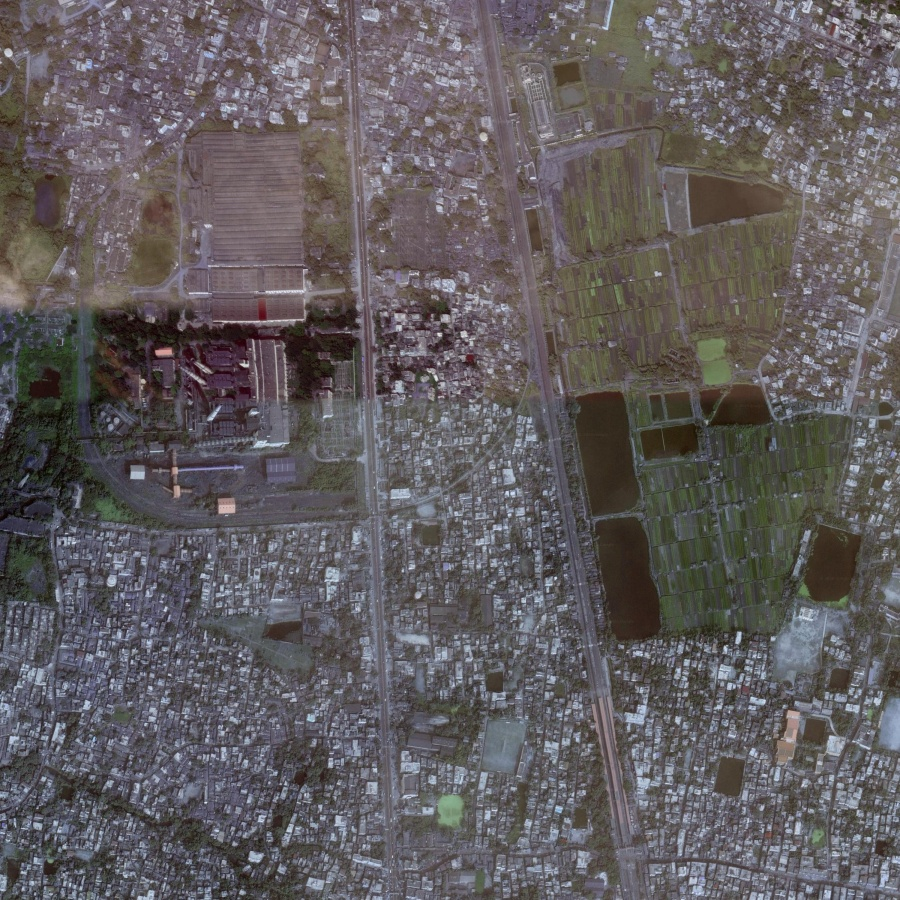PowerPlant: (84, 274, 329, 513)
